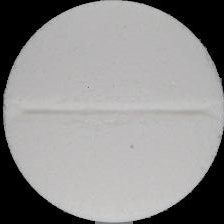0591-0461: (0, 0, 224, 224)
